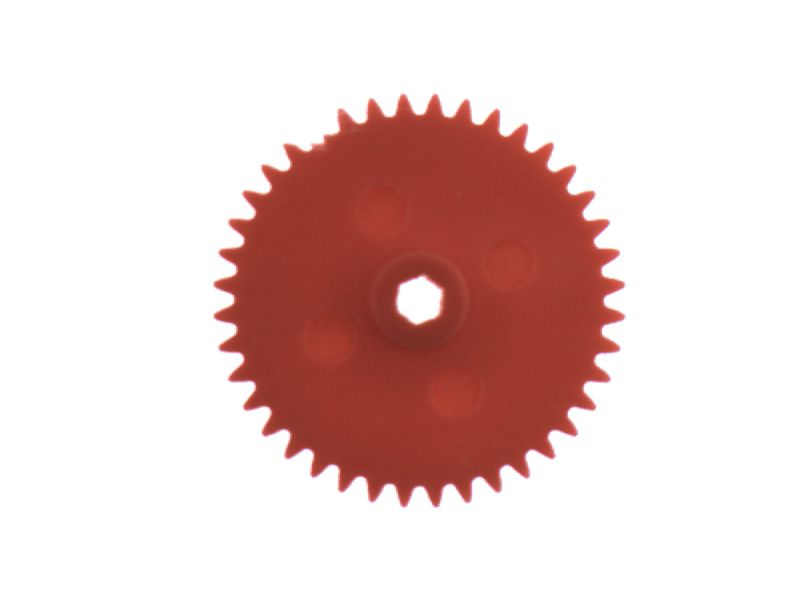defect_lack: (293, 115, 353, 161)
